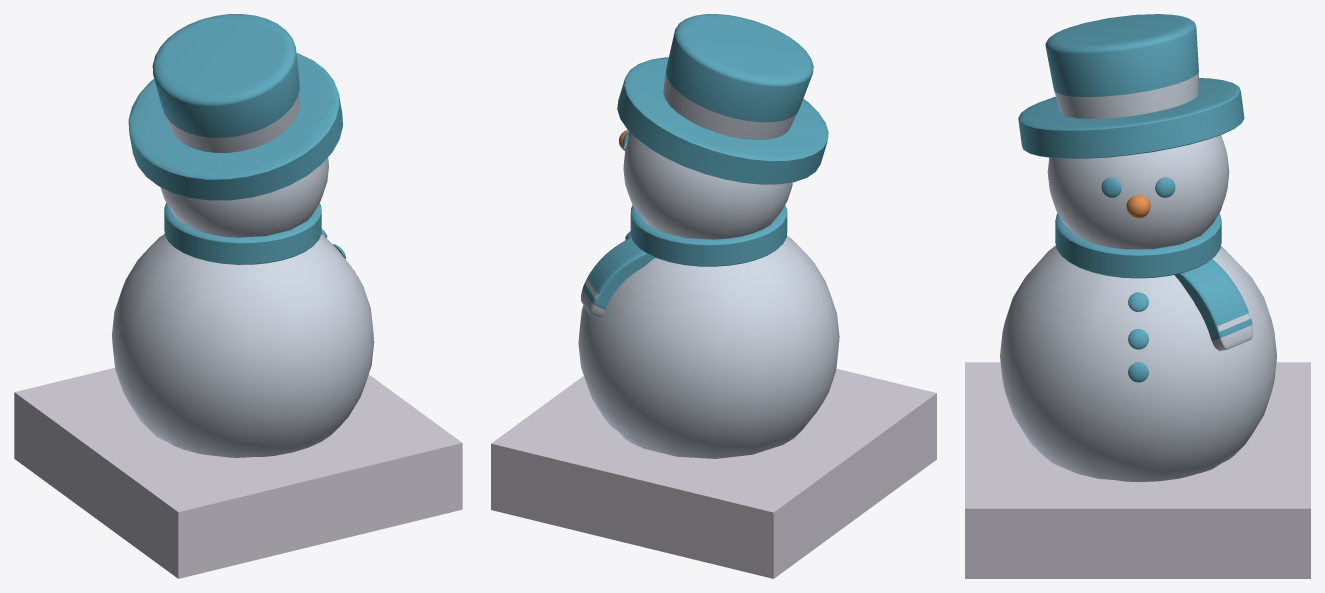
File: ice_snowman.fbx
The picture shows the model from 3 angles, left to right: view 1: azimuth 30°, elevation 25°; view 2: azimuth 150°, elevation 25°; view 3: azimuth 270°, elevation 25°; orthographic projection. The views are drawn at different scales.
Visible parts, largest first — view 1: snowman, Cube.022, hat, scarf; view 2: snowman, Cube.022, hat, scarf; view 3: snowman, Cube.022, hat, scarf, face, button.
Part boxes in pixels (x1,y1,x2,y2): snowman: (112, 157, 374, 457); Cube.022: (14, 367, 462, 578); hat: (128, 14, 342, 200); scarf: (164, 203, 321, 264); snowman: (578, 132, 839, 458); Cube.022: (491, 368, 936, 578); hat: (617, 14, 828, 184); scarf: (581, 205, 787, 318); snowman: (1000, 135, 1276, 482); Cube.022: (965, 362, 1310, 578); hat: (1018, 14, 1244, 158); scarf: (1055, 213, 1252, 350); face: (1101, 177, 1175, 218); button: (1128, 292, 1148, 382).
Bounding box in the file's own units: 119 × 182 × 119.
